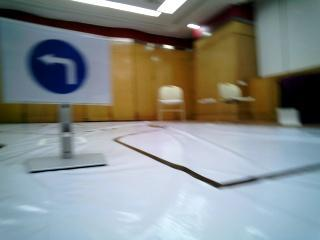left: (18, 31, 100, 95)
